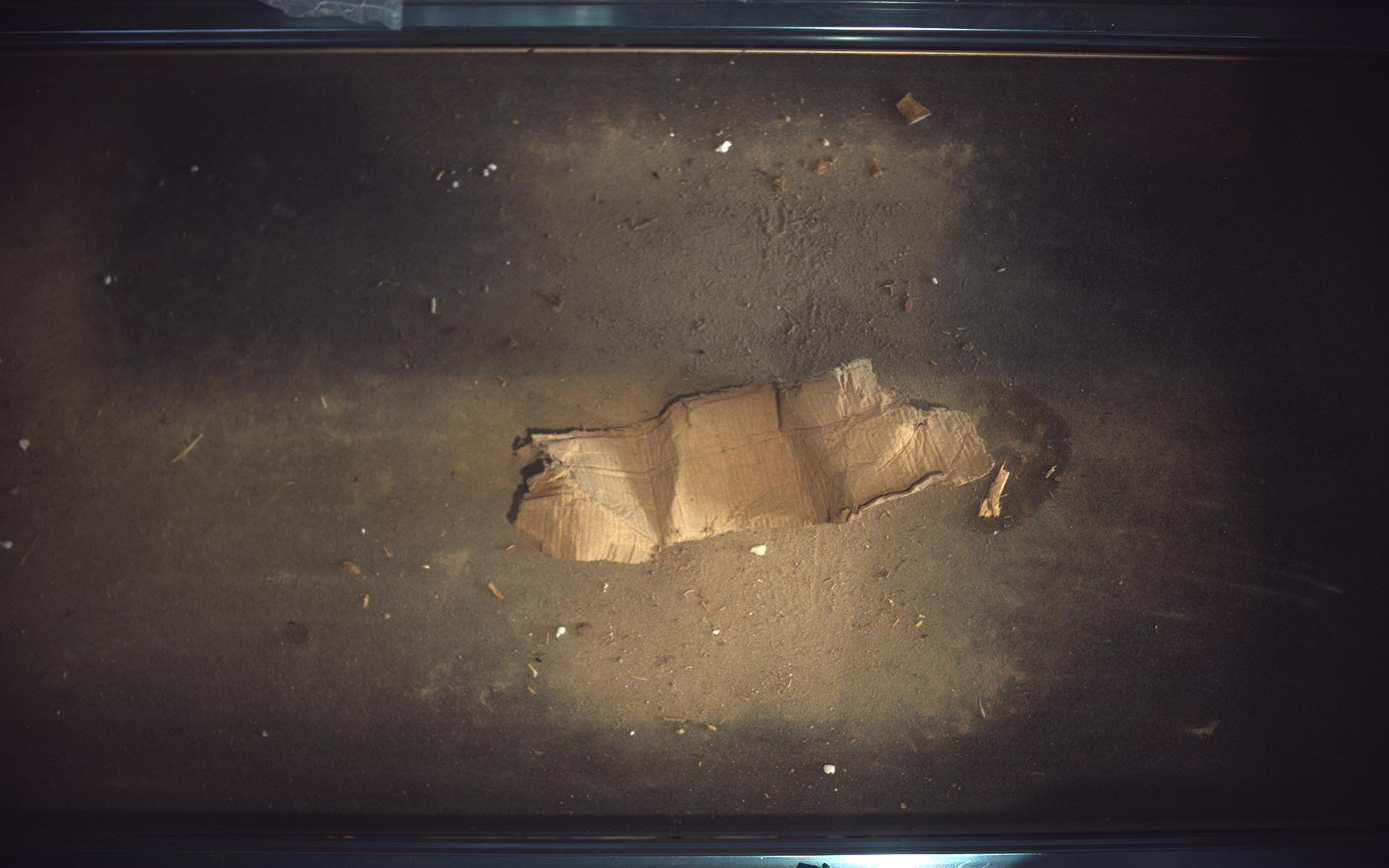general_w: (514, 359, 995, 564)
